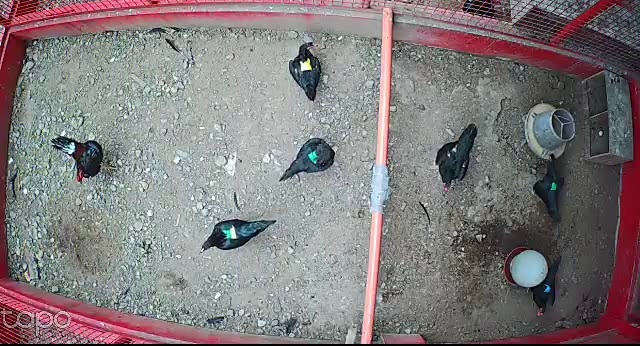Chicken: (195, 210, 276, 257), (434, 121, 482, 197), (527, 149, 567, 235), (277, 134, 335, 183), (526, 256, 568, 318), (290, 39, 324, 103)
Drinker: (503, 244, 549, 289)
Feeder: (526, 104, 577, 160)
Rooster: (47, 132, 115, 182)
Saddle_Color_Blue: (543, 282, 551, 294)
Saddle_Color_Yellow: (300, 57, 311, 73)
Saddle_Color_YellowGreen: (221, 224, 238, 242)
